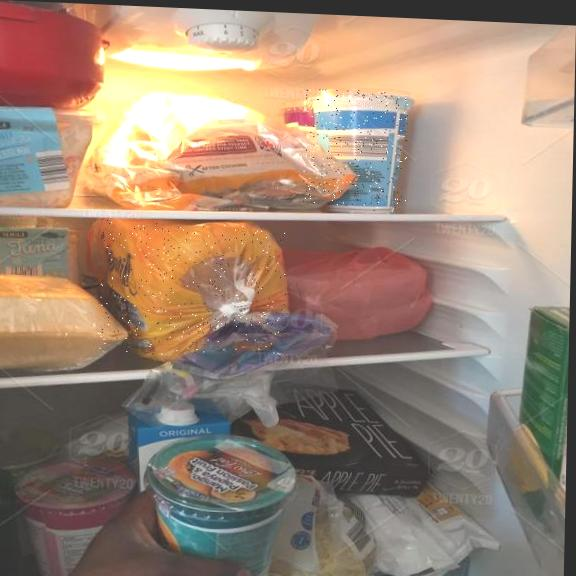bread: (97, 220, 288, 361)
yoghurt: (303, 88, 408, 213)
